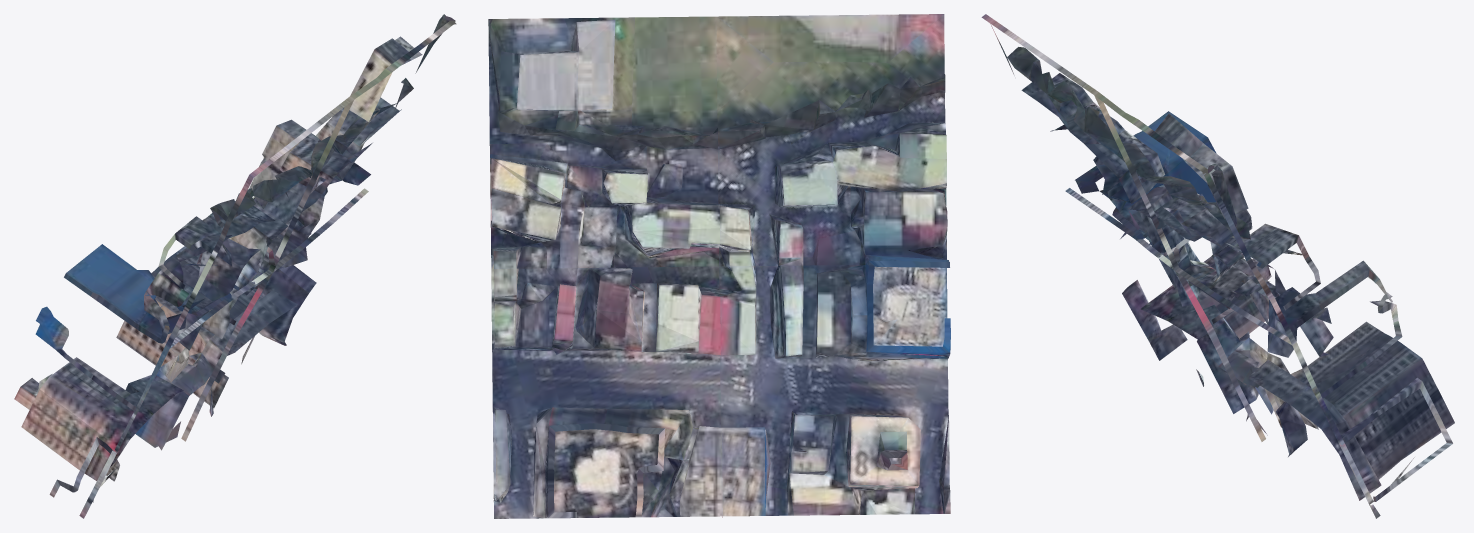
The picture shows the model from 3 angles, left to right: view 1: azimuth 30°, elevation 25°; view 2: azimuth 150°, elevation 25°; view 3: azimuth 270°, elevation 25°; orthographic projection. The views are drawn at different scales.
Size of the model in its own units: 162 by 143 by 154.
Materials: 1 (1 with a texture image).
